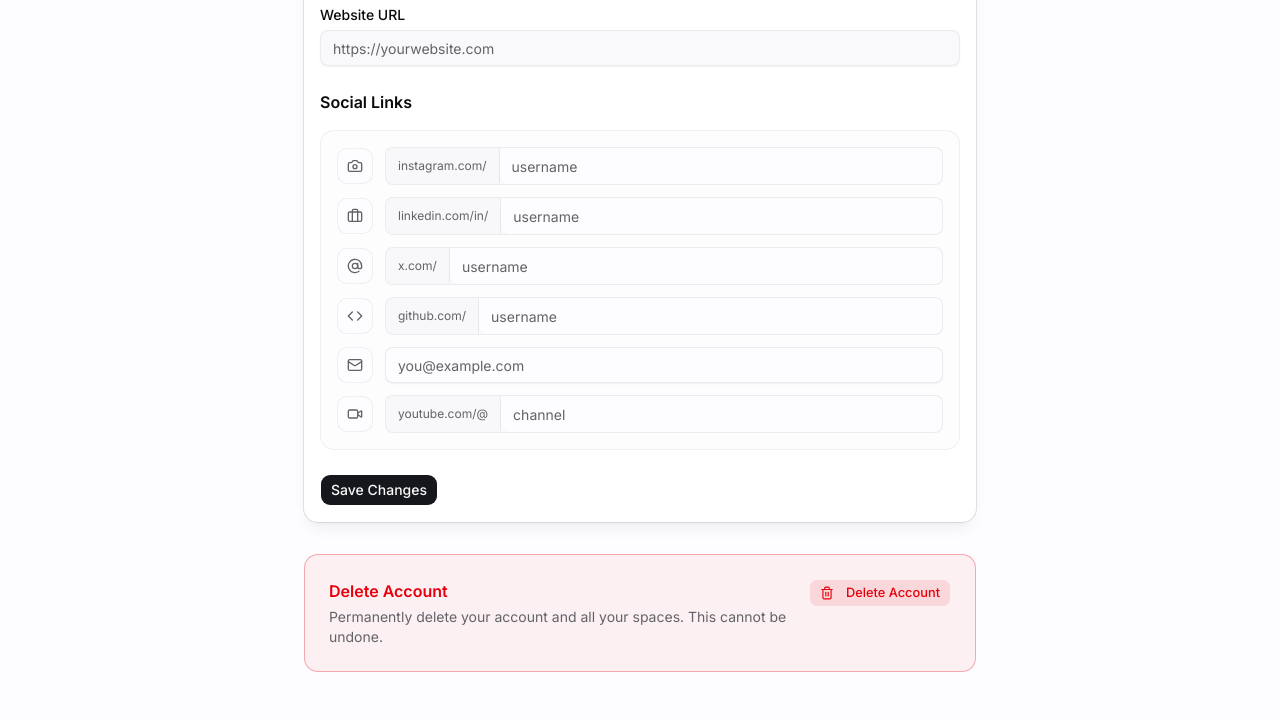
Delete Account — danger zone › confirmation dialog › opens the confirmation dialog when Delete Account is clicked
(page scrolled)
Expected: the text "cannot be undone" is shown, [329,608,786,645]
Click the button "Delete Account": point(880, 593) [809,579,951,607]
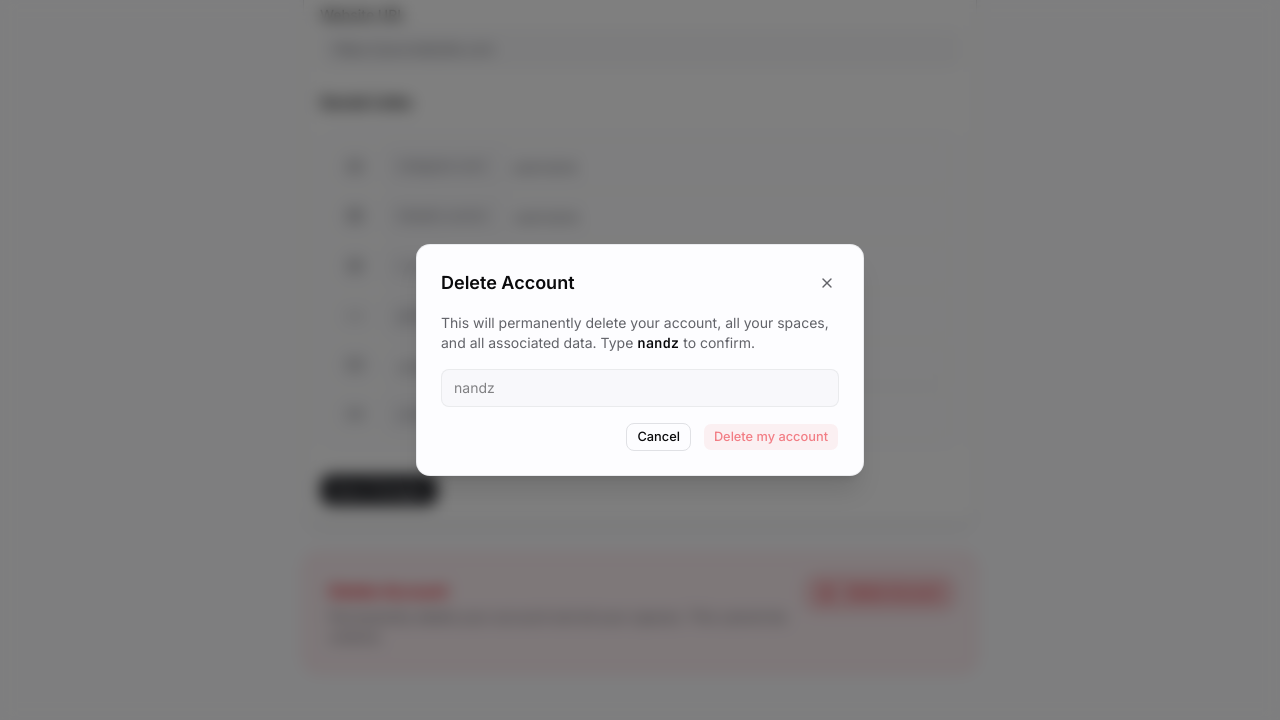
Expected: the field with placeholder "nandz" is shown, [441,369,839,407]
